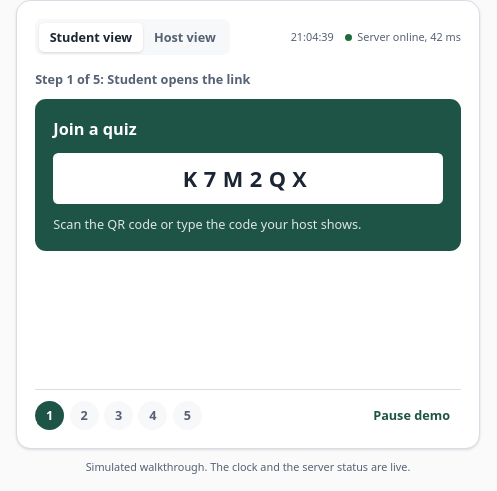
LiveDemo flow › opens on the student view and switches to the host view
The image size is (497, 491).
What coordinates should you click on to do the following:
click the tab "Host view"
I would click on:
 (185, 37)
Its box is [143, 23, 227, 52].
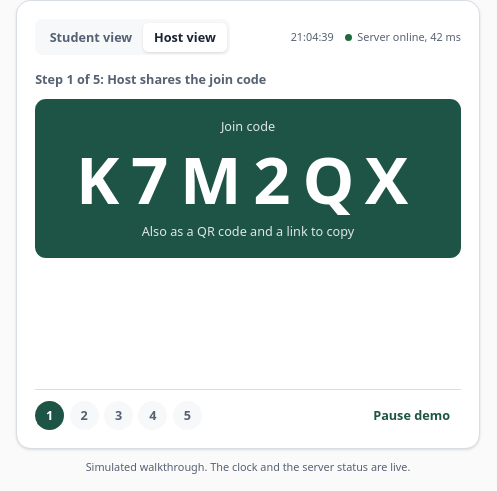
Now the panel shows "Join code", box [221, 117, 275, 135]
